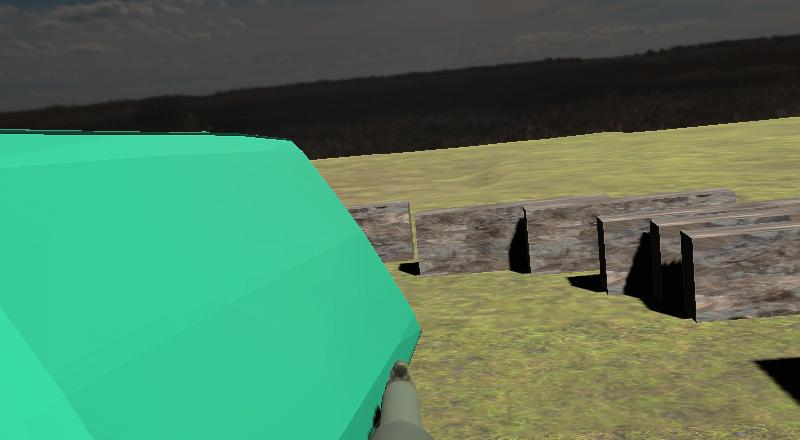car: (1, 130, 441, 438)
